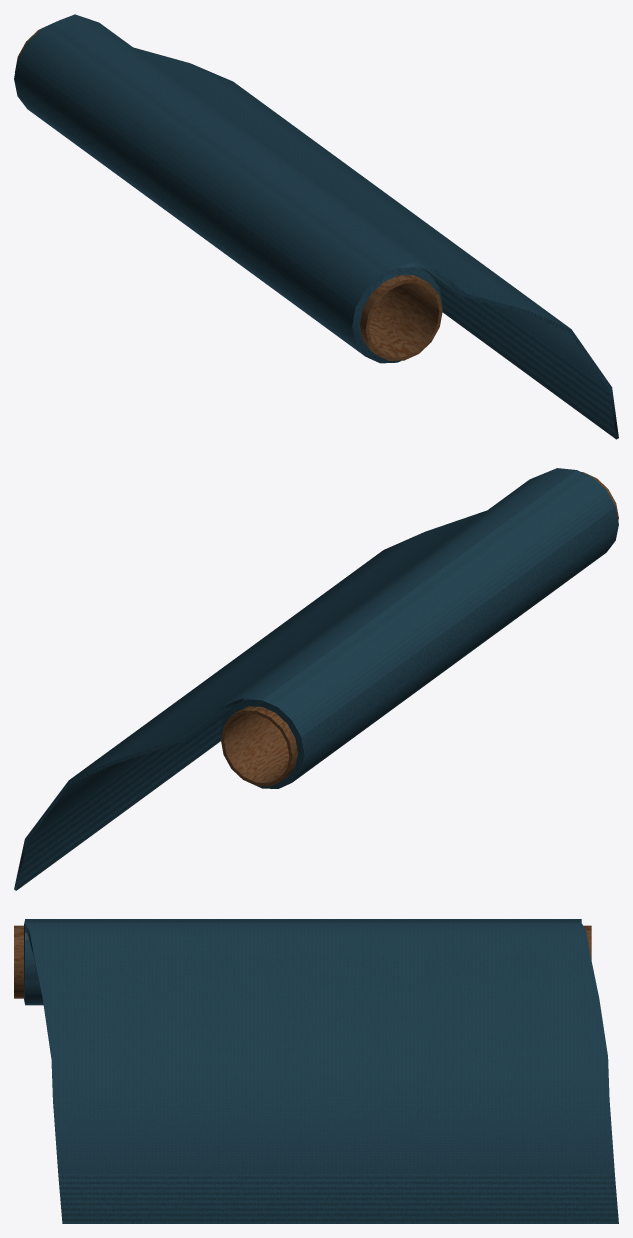
File: Rouleau_deroule_vide_final.glb
3 renders of one model, top to bottom at view 1: azimuth 30°, elevation 25°; view 2: azimuth 150°, elevation 25°; view 3: azimuth 270°, elevation 25°, orthographic. The views are drawn at different scales.
Parts seen in each view (by area): view 1: Cylinder.008; view 2: Cylinder.008; view 3: Cylinder.008.
Boxes of the visible parts, x1,y1,x2,y2 form: Cylinder.008: (14, 14, 618, 439); Cylinder.008: (14, 468, 618, 890); Cylinder.008: (14, 919, 618, 1223).
Size of the model in its own units: 0.1729 by 0.1412 by 0.3804.
1 material, 1 textured.
